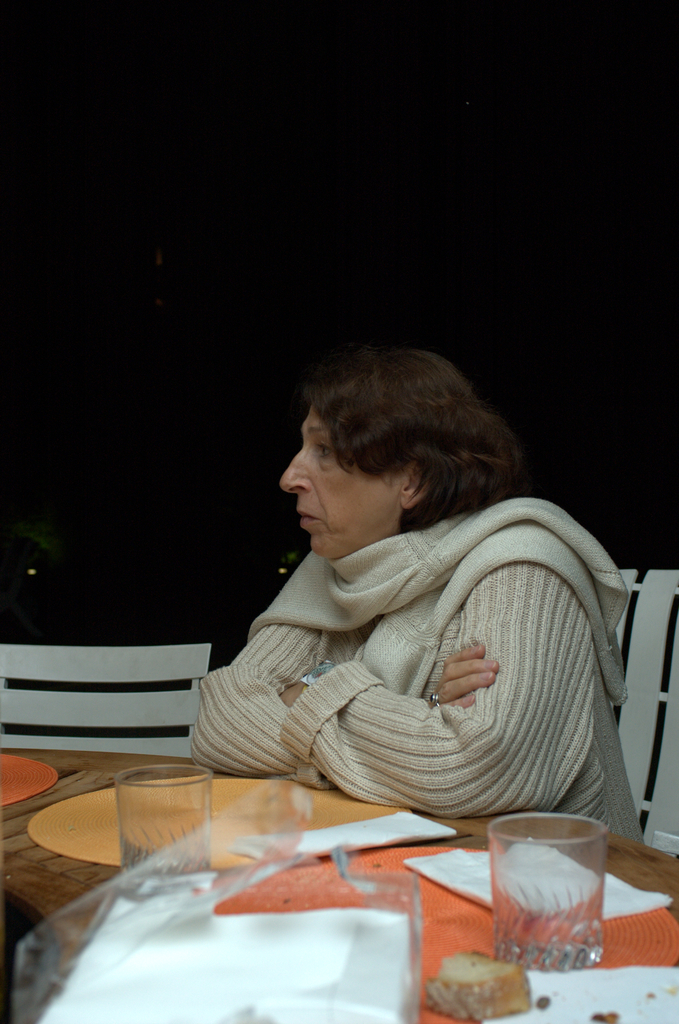Human_hand: (430, 639, 510, 719), (279, 680, 313, 703)
